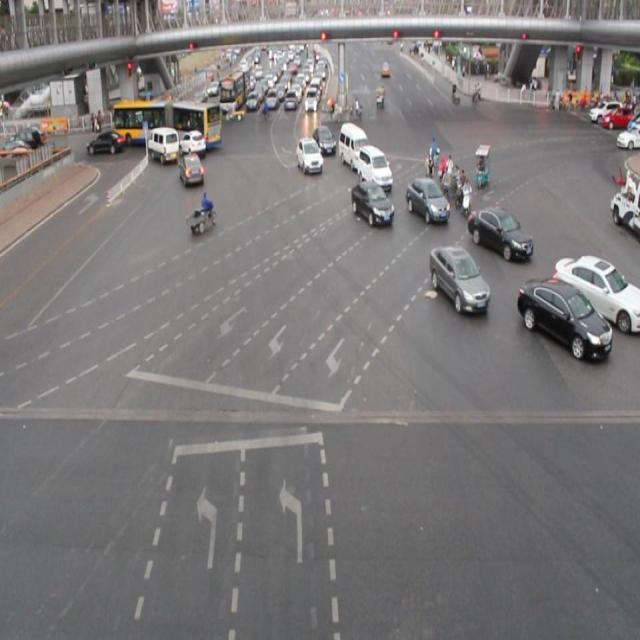car: (514, 278, 610, 357), (553, 255, 640, 332), (430, 245, 488, 318), (466, 206, 529, 261), (405, 176, 449, 222), (349, 182, 392, 228), (356, 144, 392, 187), (89, 128, 126, 162), (294, 136, 322, 174), (179, 152, 204, 187), (309, 125, 334, 157), (180, 129, 207, 157)
truck: (338, 121, 370, 172), (146, 126, 177, 162)
